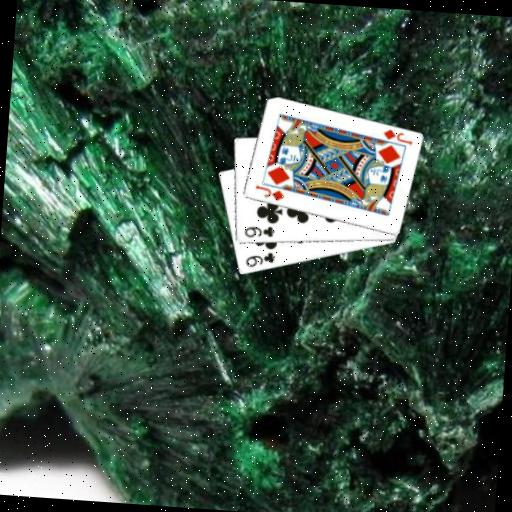9C: (242, 247, 277, 270), (241, 222, 276, 241)
JD: (251, 182, 286, 203), (379, 126, 414, 147)
